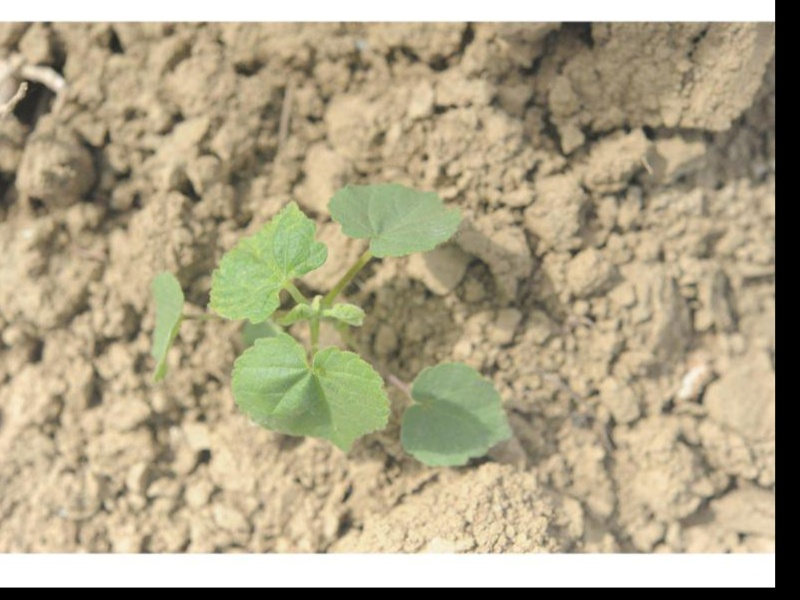velvet: (151, 181, 515, 464)
